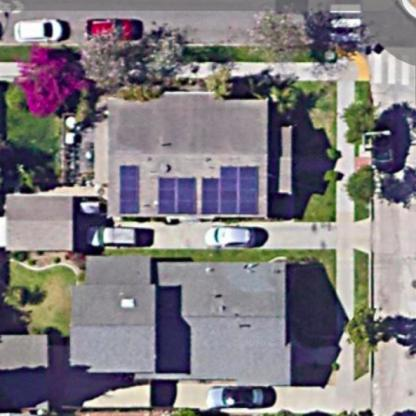car: (200, 380, 275, 409), (86, 12, 146, 46), (8, 11, 67, 45), (84, 220, 141, 250), (207, 224, 258, 249)
solar_panel: (203, 153, 266, 222), (156, 171, 200, 218), (114, 154, 142, 216)
